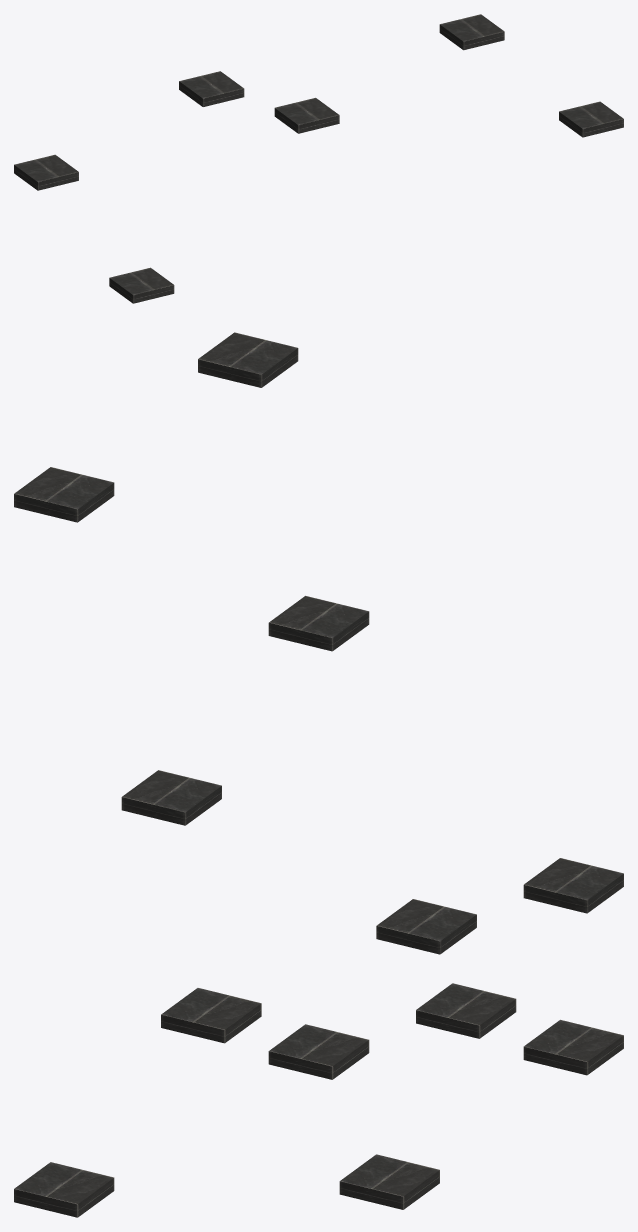
File: levels.glb
The picture shows the model from 3 angles, top to bottom: view 1: azimuth 30°, elevation 25°; view 2: azimuth 150°, elevation 25°; view 3: azimuth 330°, elevation 25°; orthographic projection. The views are drawn at different scales.
Parts seen in each view (by area): view 1: Cube.020, Cube.016, Cube.018, Cube.019, Cube.017, Cube.021; view 2: Cube.019, Cube.020, Cube.018, Cube.021, Cube.017, Cube.016; view 3: Cube.019, Cube.017, Cube.016, Cube.021, Cube.018, Cube.020.
Boxes of the visible parts, x1=… form: Cube.020: x1=439, y1=14, x2=504, y2=50; Cube.016: x1=109, y1=267, x2=174, y2=303; Cube.018: x1=179, y1=71, x2=244, y2=106; Cube.019: x1=274, y1=97, x2=339, y2=133; Cube.017: x1=14, y1=154, x2=78, y2=190; Cube.021: x1=559, y1=101, x2=623, y2=137; Cube.019: x1=268, y1=595, x2=369, y2=651; Cube.020: x1=14, y1=467, x2=114, y2=522; Cube.018: x1=121, y1=770, x2=221, y2=825; Cube.021: x1=198, y1=332, x2=298, y2=387; Cube.017: x1=376, y1=899, x2=476, y2=954; Cube.016: x1=523, y1=858, x2=623, y2=913; Cube.019: x1=268, y1=1024, x2=369, y2=1079; Cube.017: x1=161, y1=988, x2=261, y2=1043; Cube.016: x1=14, y1=1162, x2=114, y2=1217; Cube.021: x1=339, y1=1154, x2=439, y2=1209; Cube.018: x1=416, y1=983, x2=516, y2=1038; Cube.020: x1=523, y1=1019, x2=623, y2=1075.
Bounding box in the file's own units: 45 × 21 × 50.
1 material, 1 textured.
